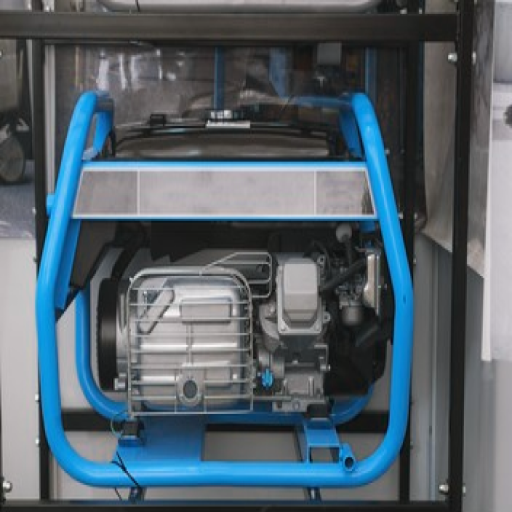portable_generator: (37, 90, 412, 488)
